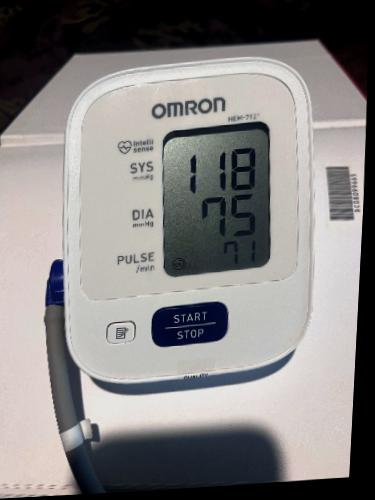bpm: (163, 121, 270, 277)
